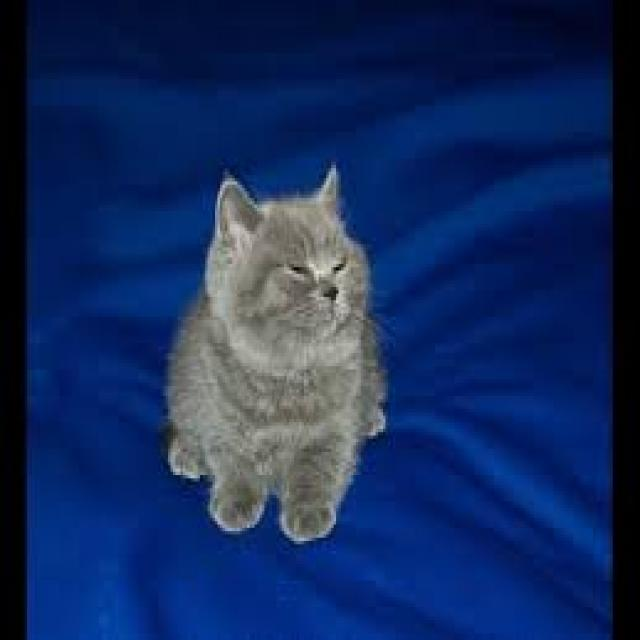Cat: (158, 160, 390, 546)
